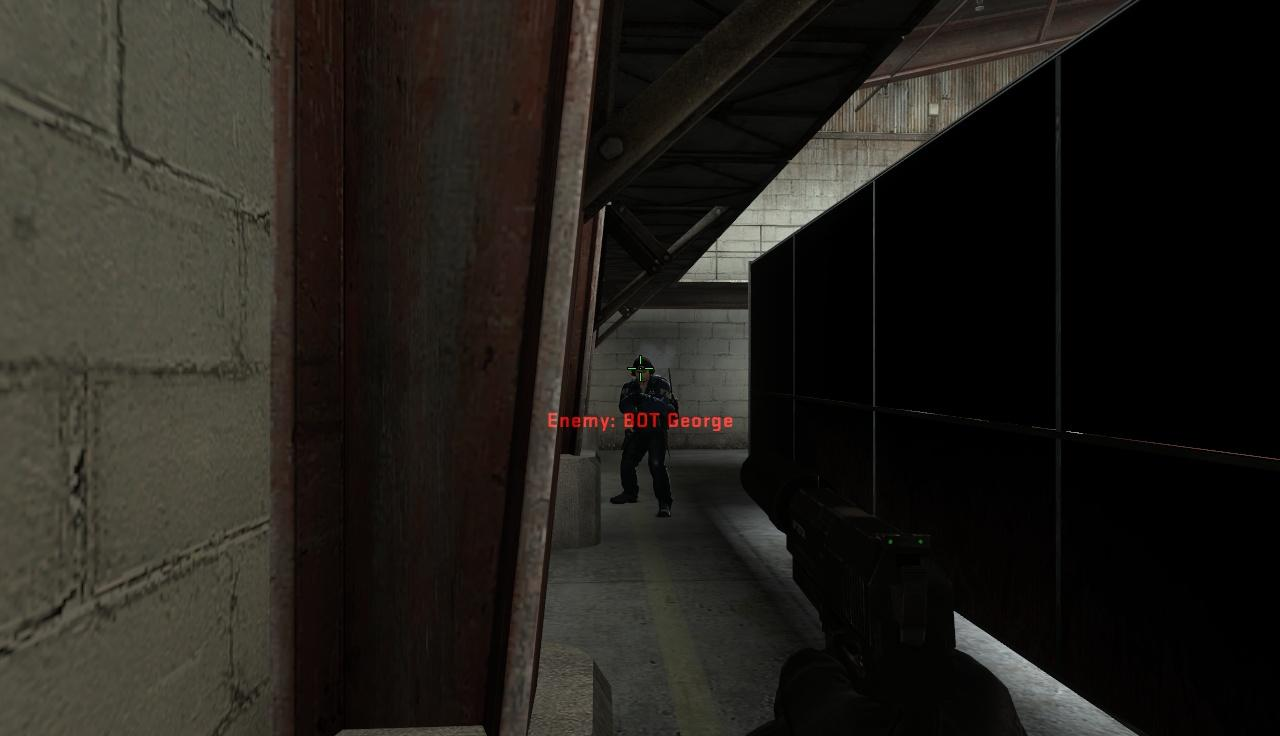ct: (619, 356, 675, 519)
cthead: (632, 356, 654, 382)
pistol: (737, 442, 1027, 736)
